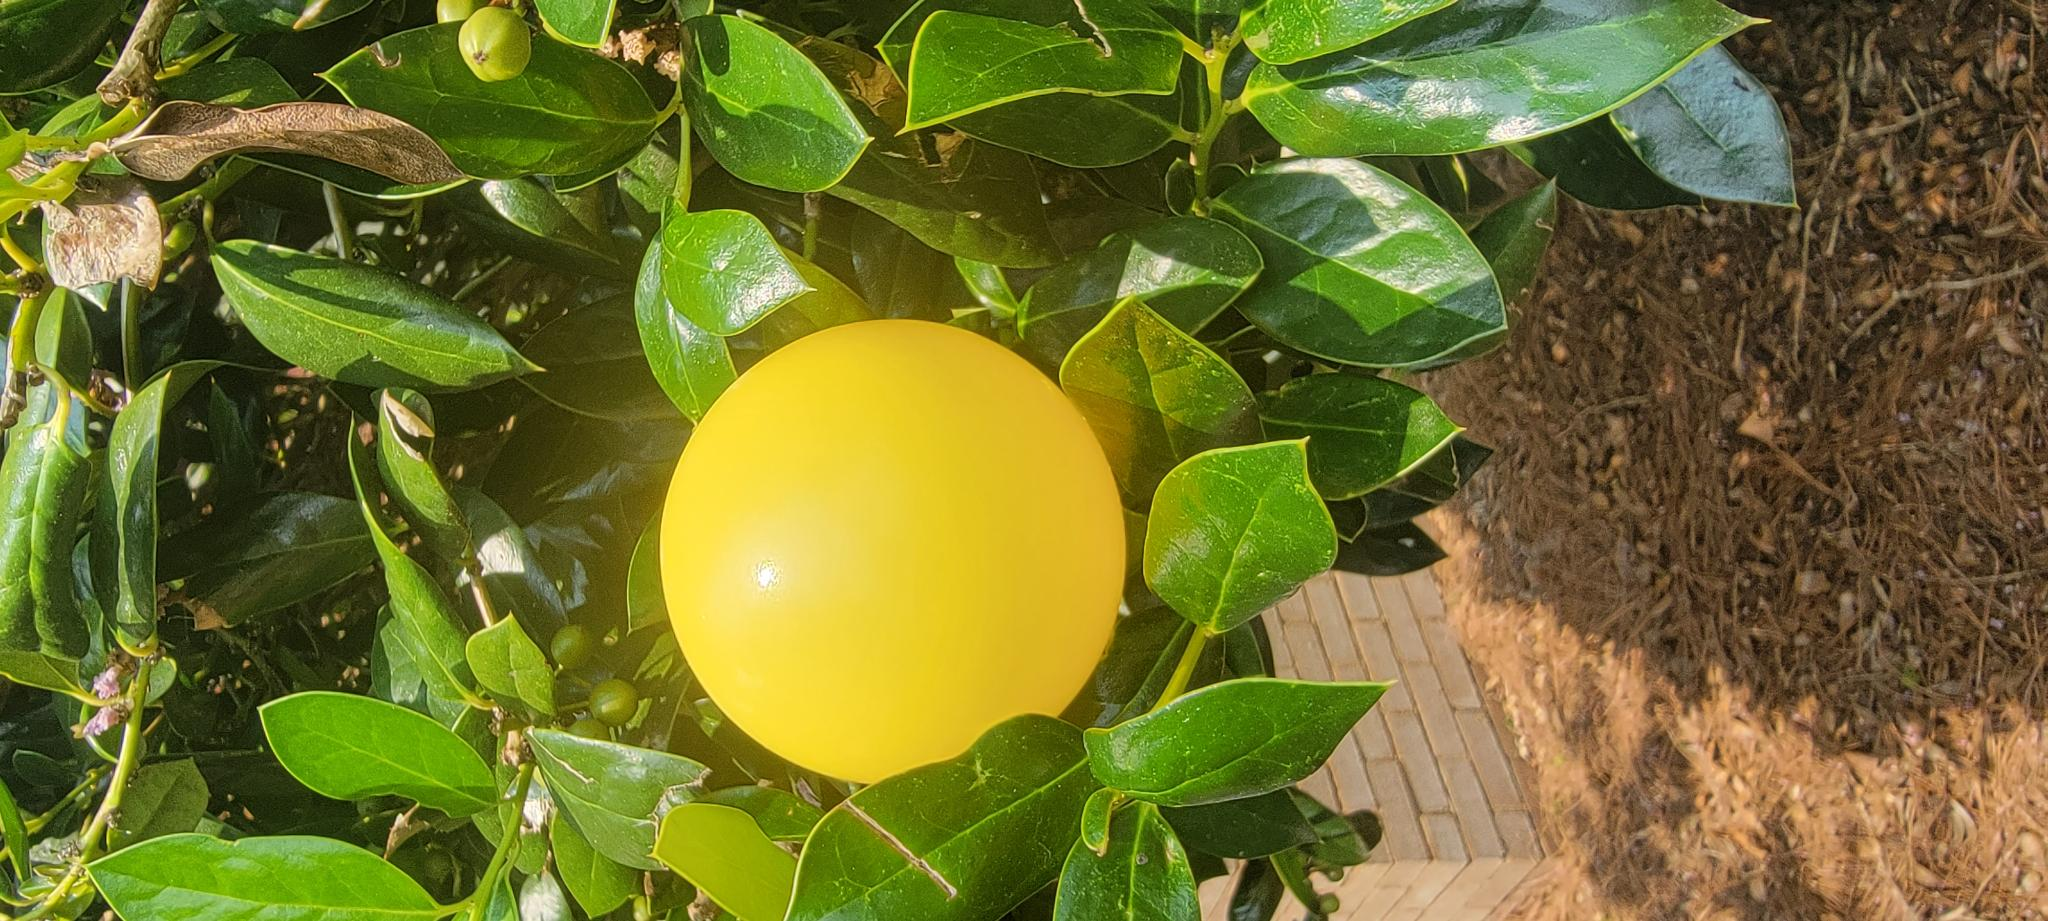Yellow-Ball: (138, 654, 600, 921)
